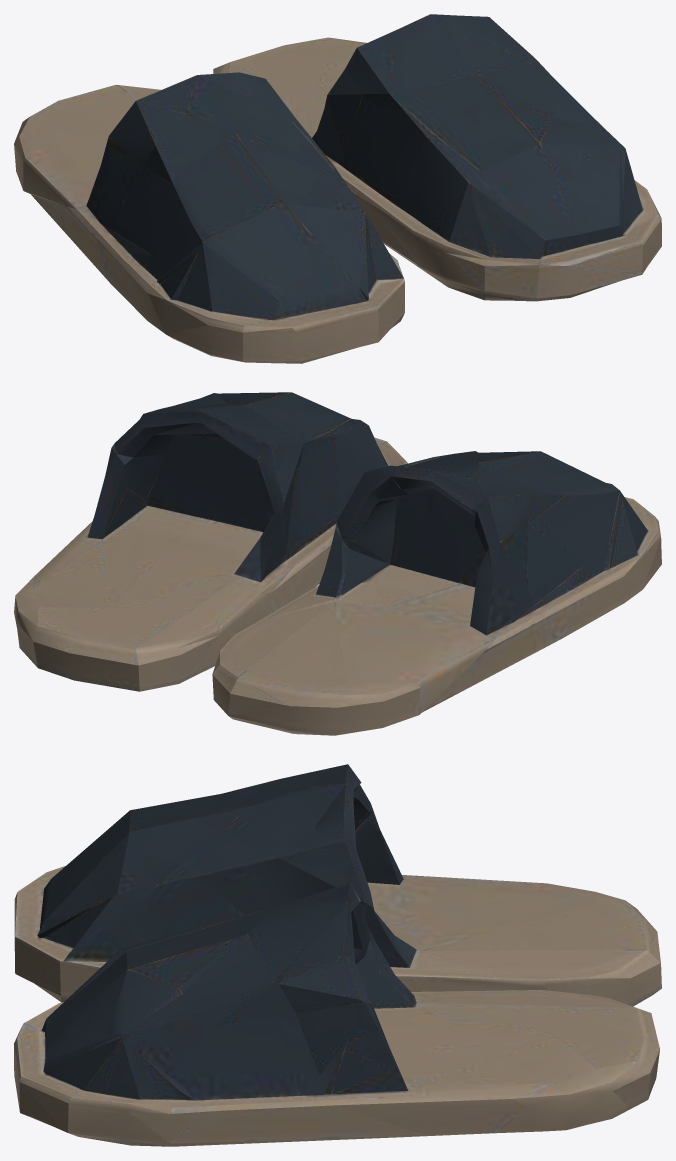
The model's file is slippers.glb.
3 views of the same model, one above another, from view 1: azimuth 30°, elevation 25°; view 2: azimuth 150°, elevation 25°; view 3: azimuth 270°, elevation 25° (orthographic). The views are drawn at different scales.
Bounding box in the file's own units: 1.76 × 0.5991 × 1.9.
Materials: 1 (1 with a texture image).
